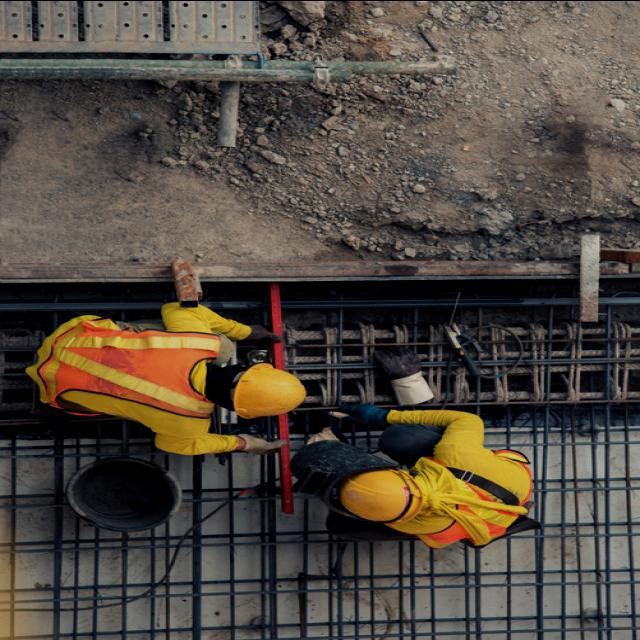Gloves: (338, 401, 394, 427), (234, 434, 299, 456), (240, 322, 290, 346)
Hard Hat: (332, 462, 427, 526), (229, 361, 307, 420)
Reflective Vest: (24, 313, 230, 423), (408, 449, 536, 548)
